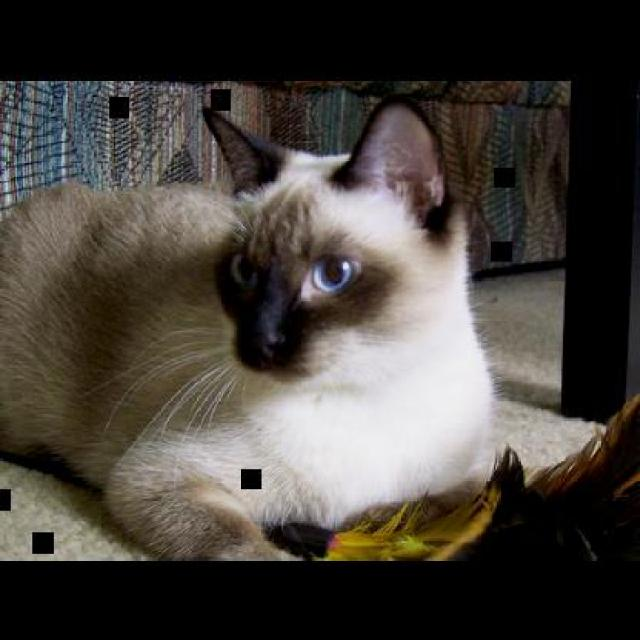unauthorized: (0, 97, 638, 563)
